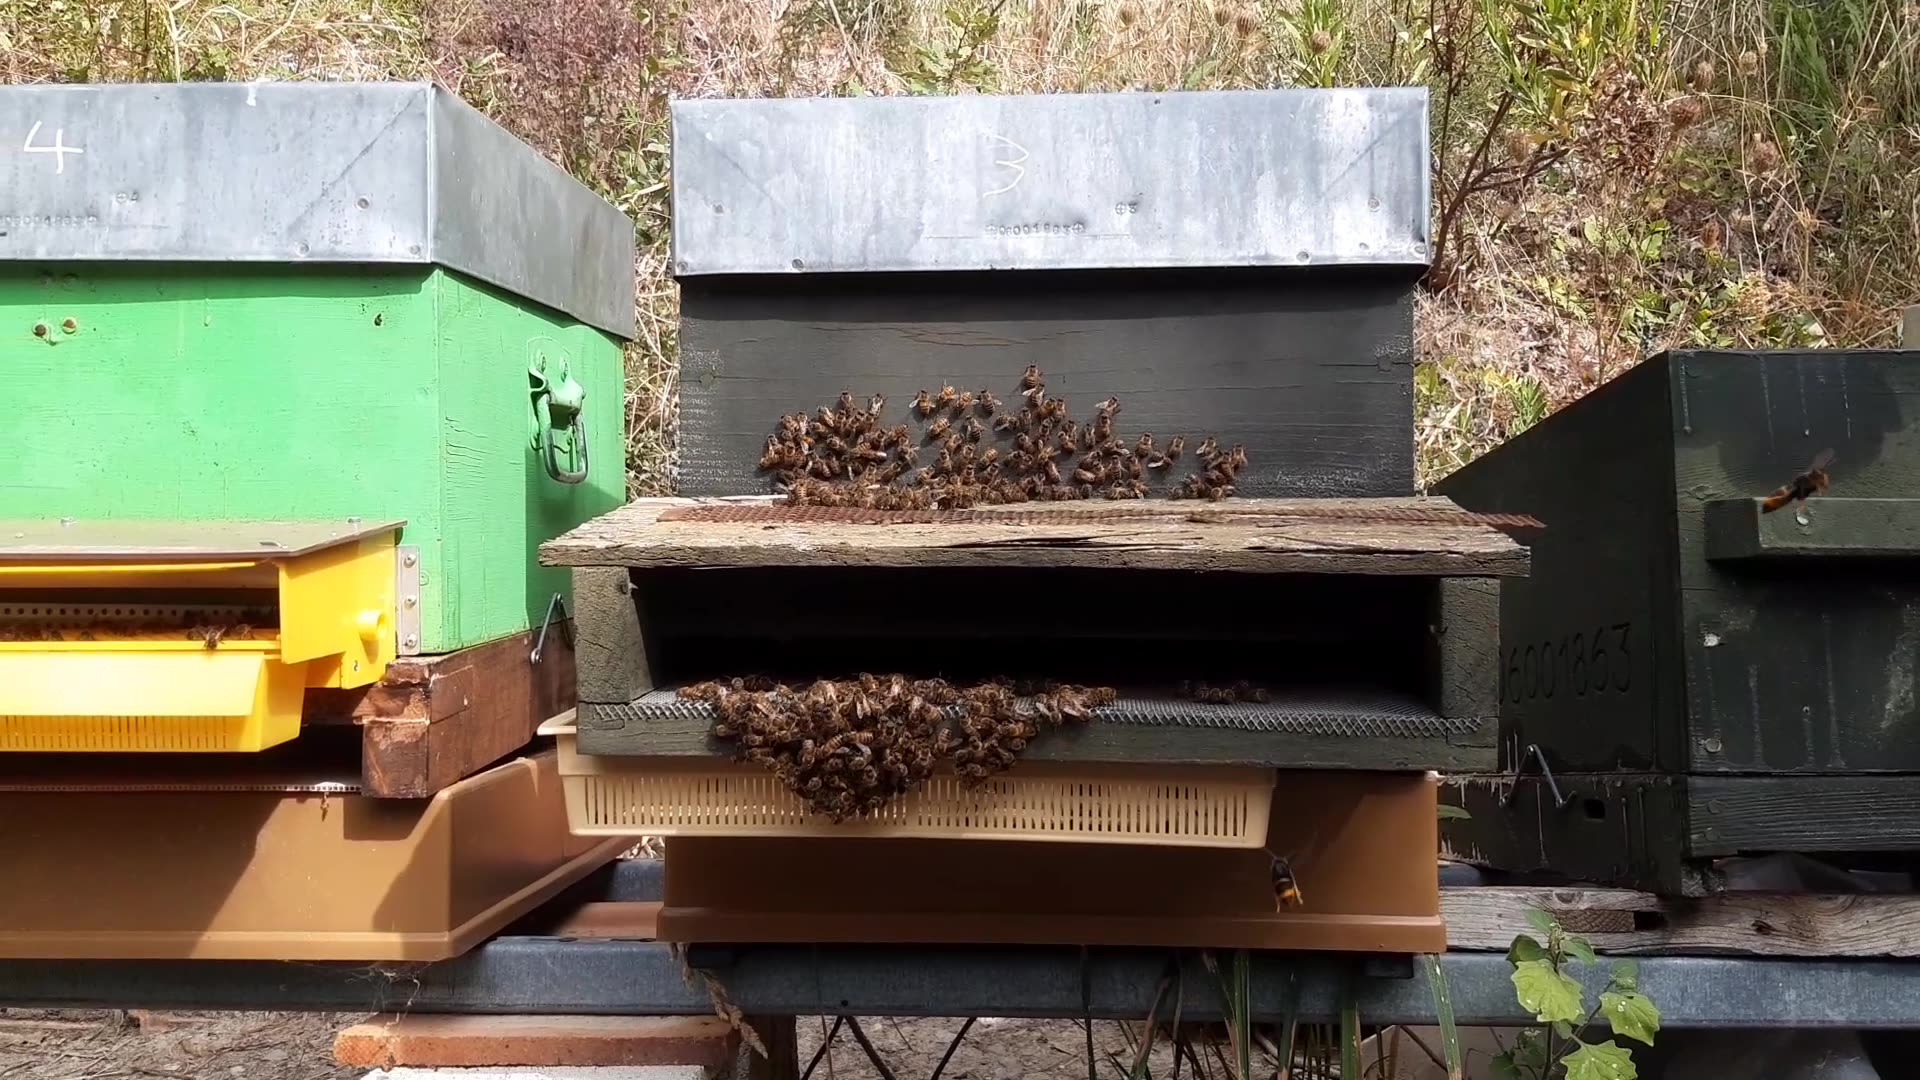bee: (831, 738, 914, 832), (738, 729, 819, 811), (691, 682, 785, 752), (1021, 680, 1124, 740), (938, 754, 1011, 828), (820, 673, 915, 724), (939, 456, 1015, 516), (1164, 443, 1244, 497), (1030, 450, 1097, 504), (837, 446, 905, 496), (824, 406, 891, 451), (1029, 396, 1083, 451), (938, 392, 1004, 436)
hornet: (1768, 462, 1849, 522)
